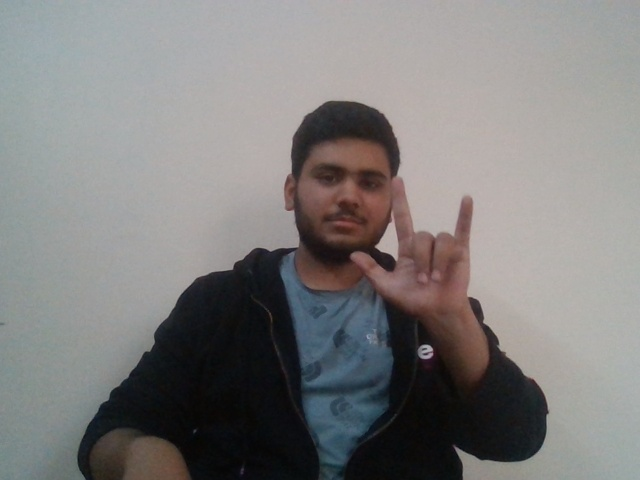IloveYou: (340, 174, 490, 315)
